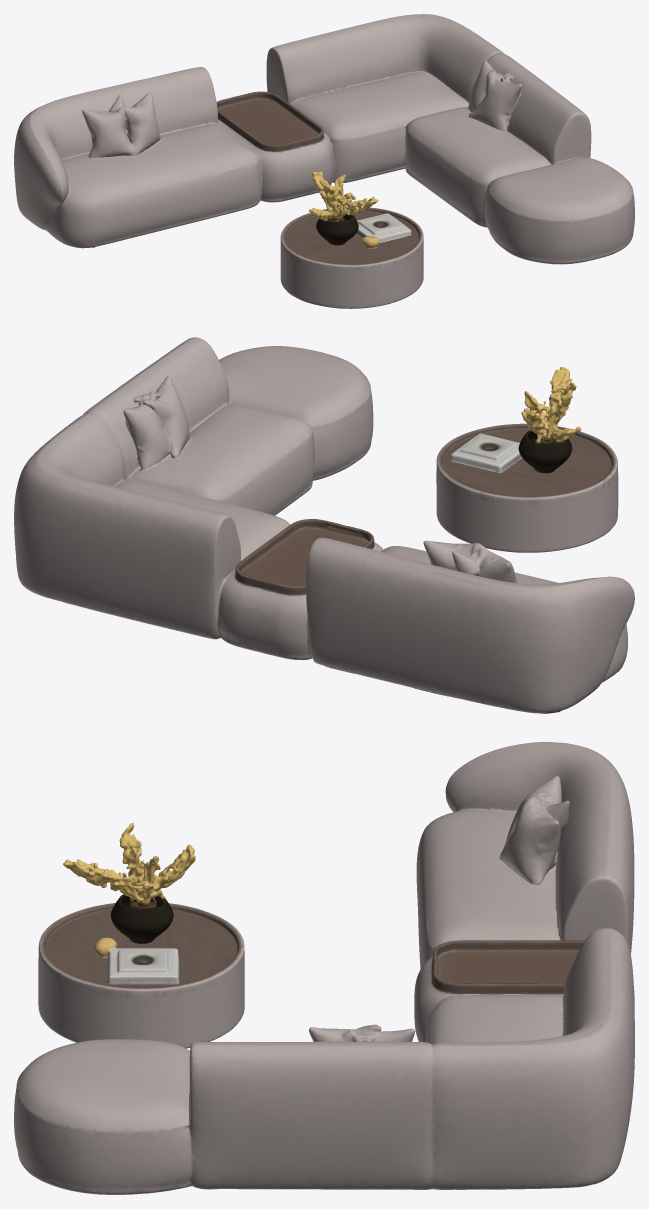
The model's file is examp.glb.
The picture shows the model from 3 angles, top to bottom: view 1: azimuth 30°, elevation 25°; view 2: azimuth 150°, elevation 25°; view 3: azimuth 270°, elevation 25°; orthographic projection. The views are drawn at different scales.
Visible parts, largest first — view 1: world; view 2: world; view 3: world.
Part boxes in pixels (x1=…): world: x1=14, y1=14, x2=634, y2=308; world: x1=14, y1=337, x2=634, y2=713; world: x1=14, y1=742, x2=634, y2=1194.
Size of the model in its own units: 1 by 0.2402 by 0.8012.
Materials: 1 (1 with a texture image).
